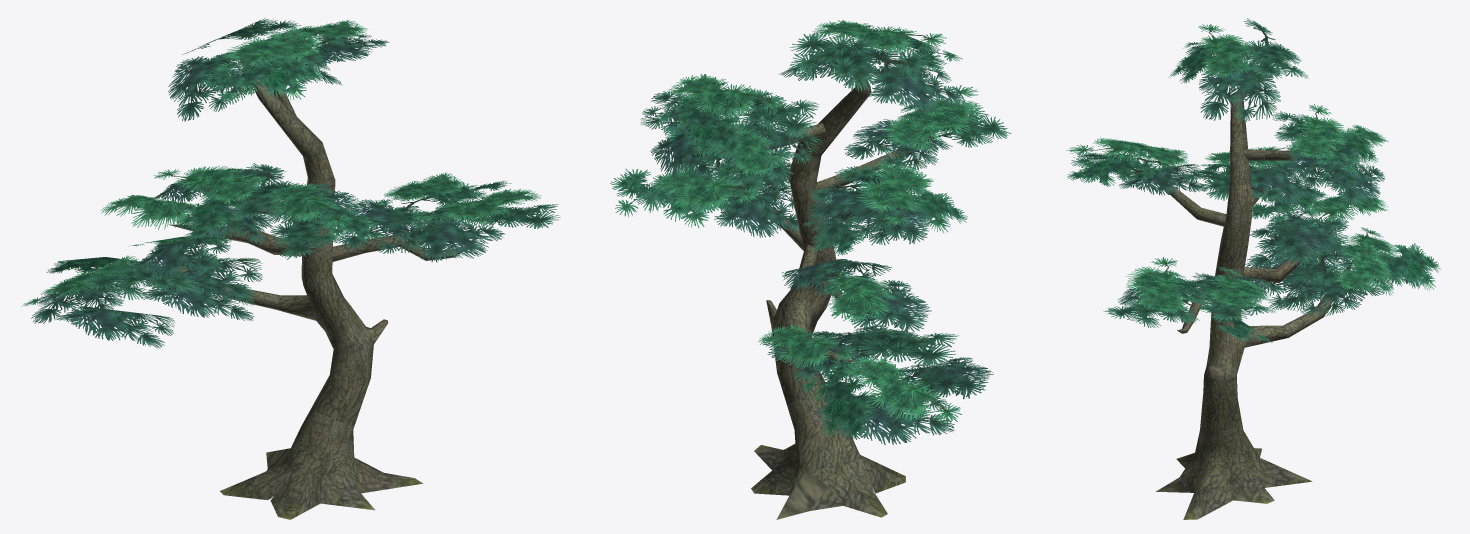
The model's file is cj_xinshou_shongshu02_54_00_2480out.fbx.
The picture shows the model from 3 angles, left to right: view 1: azimuth 30°, elevation 25°; view 2: azimuth 150°, elevation 25°; view 3: azimuth 270°, elevation 25°; orthographic projection. The views are drawn at different scales.
Parts seen in each view (by area): view 1: cj_xinshou_shongshu02; view 2: cj_xinshou_shongshu02; view 3: cj_xinshou_shongshu02.
Boxes of the visible parts, x1,y1,x2,y2 form: cj_xinshou_shongshu02: (21,18,560,519); cj_xinshou_shongshu02: (610,20,1011,519); cj_xinshou_shongshu02: (1066,18,1440,519).
Size of the model in its own units: 12.41 by 12.37 by 10.76.
